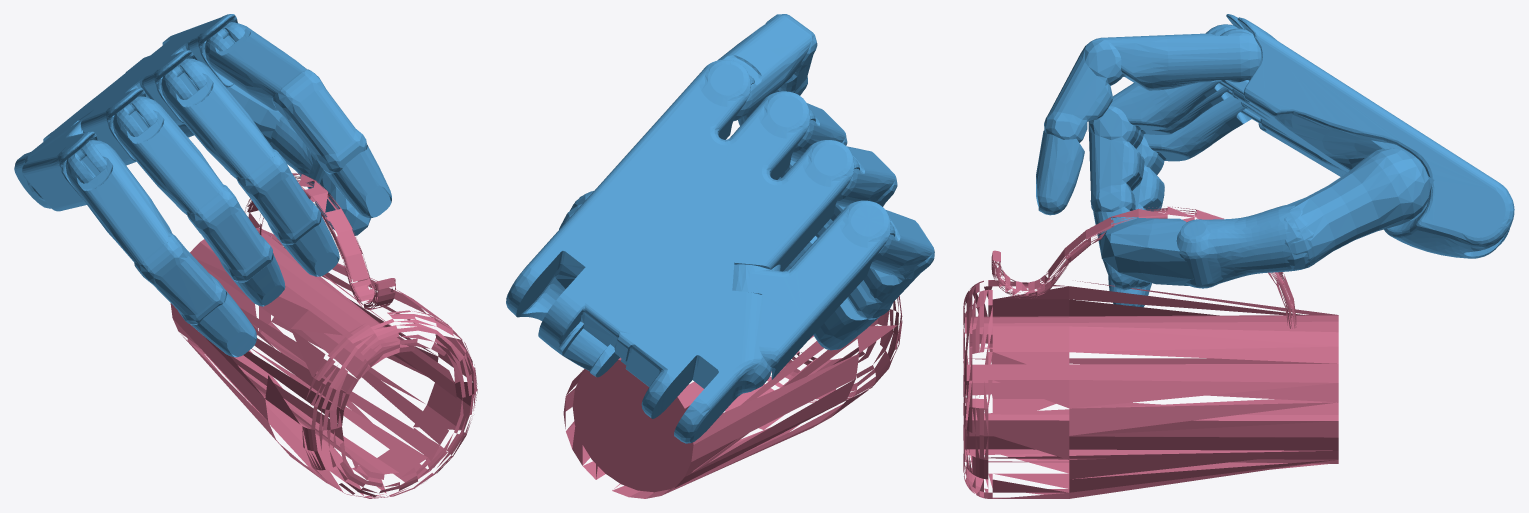
The picture shows the model from 3 angles, left to right: view 1: azimuth 30°, elevation 25°; view 2: azimuth 150°, elevation 25°; view 3: azimuth 270°, elevation 25°; orthographic projection. The views are drawn at different scales.
Visible parts, largest first — view 1: 6; view 2: 6; view 3: 6.
Part boxes in pixels (bbox=[...]): 6: bbox=[14, 14, 477, 498]; 6: bbox=[506, 14, 934, 498]; 6: bbox=[963, 14, 1514, 498].
Bounding box in the file's own units: 0.1217 × 0.1625 × 0.1825.
